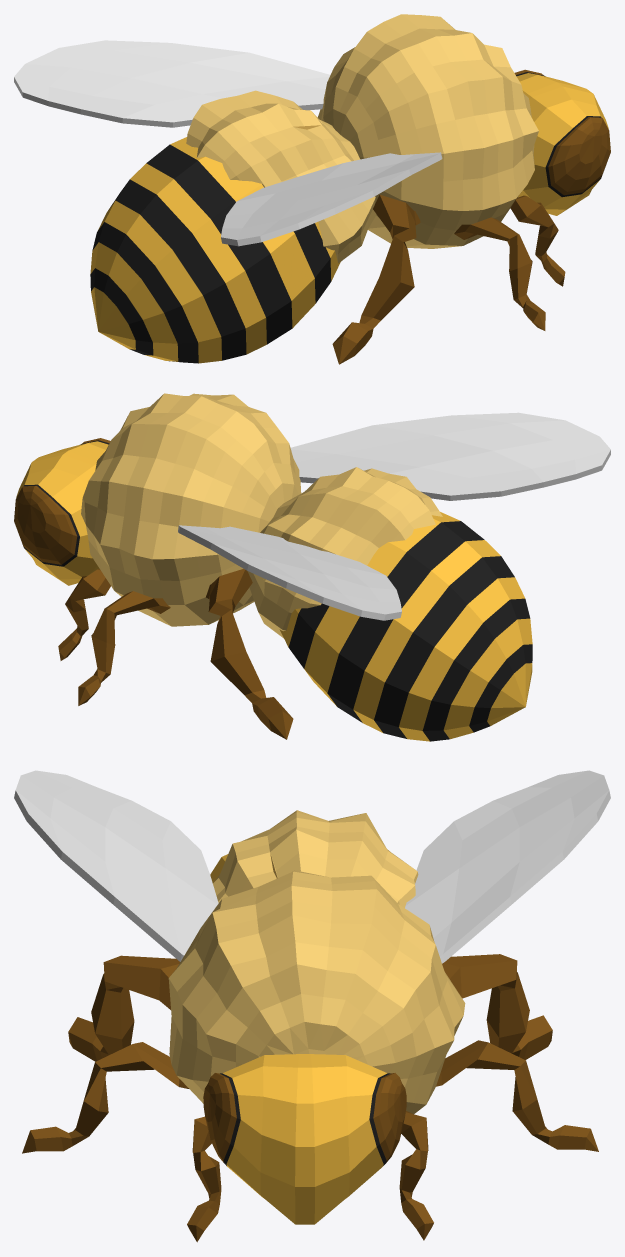
File: bee.fbx
3 views of the same model, one above another, from view 1: azimuth 30°, elevation 25°; view 2: azimuth 150°, elevation 25°; view 3: azimuth 270°, elevation 25° (orthographic). The views are drawn at different scales.
Parts seen in each view (by area): view 1: Sphere, Circle; view 2: Sphere, Circle; view 3: Sphere, Circle.
Boxes of the visible parts, x1,y1,x2,y2 form: Sphere: [90, 14, 610, 364]; Circle: [14, 40, 442, 246]; Sphere: [14, 393, 532, 741]; Circle: [178, 412, 610, 620]; Sphere: [22, 810, 598, 1242]; Circle: [14, 770, 610, 963].
Size of the model in its own units: 51.64 by 26.44 by 42.97.
